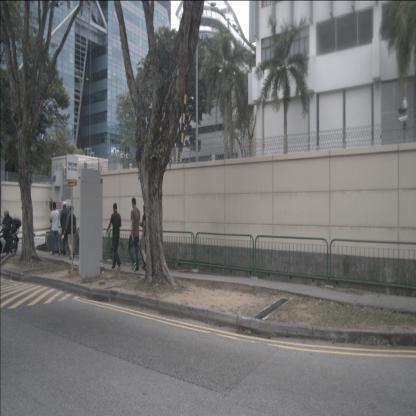human-pedestrian-adult: (107, 203, 122, 271), (128, 197, 140, 272), (61, 205, 77, 260), (140, 206, 152, 270), (60, 201, 71, 257), (50, 202, 61, 257)
vehicle-motorcycle: (0, 209, 22, 257)
